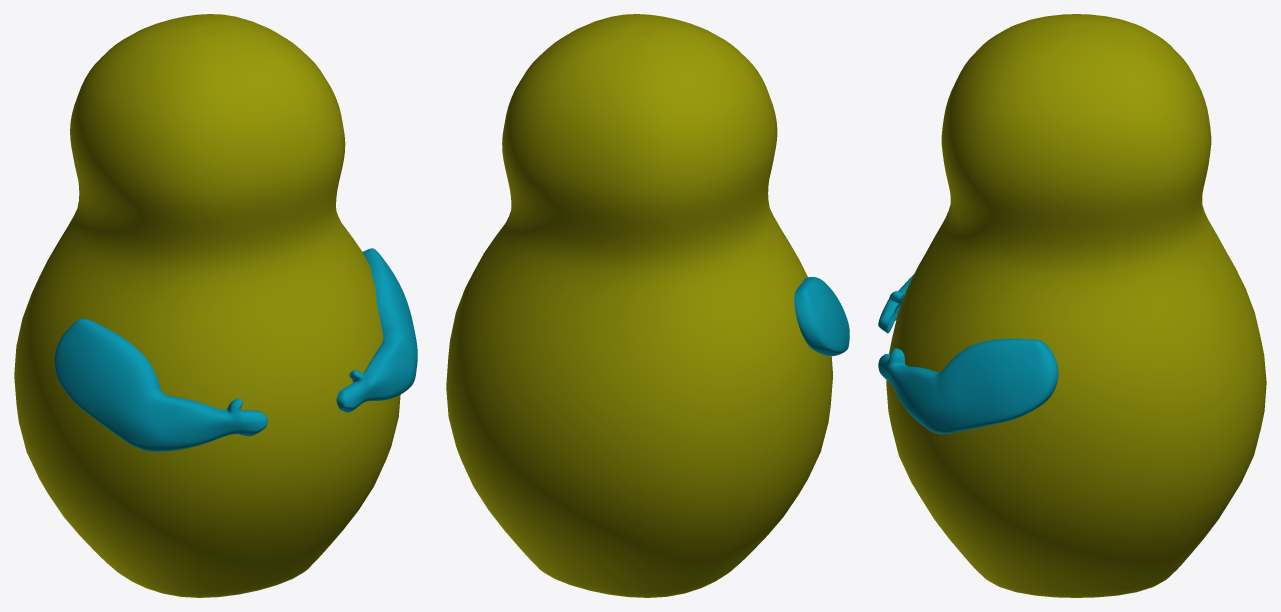
The model's file is yellow-1.glb.
3 views of the same model, side by side, from view 1: azimuth 30°, elevation 25°; view 2: azimuth 150°, elevation 25°; view 3: azimuth 270°, elevation 25° (orthographic).
Parts seen in each view (by area): view 1: Cube, Cube.001; view 2: Cube, Cube.001; view 3: Cube, Cube.001.
Part boxes in pixels (x1,y1,x2,y2): Cube: (14,14,400,597); Cube.001: (54,248,417,451); Cube: (446,14,832,597); Cube.001: (794,277,849,356); Cube: (886,14,1266,597); Cube.001: (878,274,1058,433).
Bounding box in the file's own units: 2.96 × 4.36 × 2.9.
